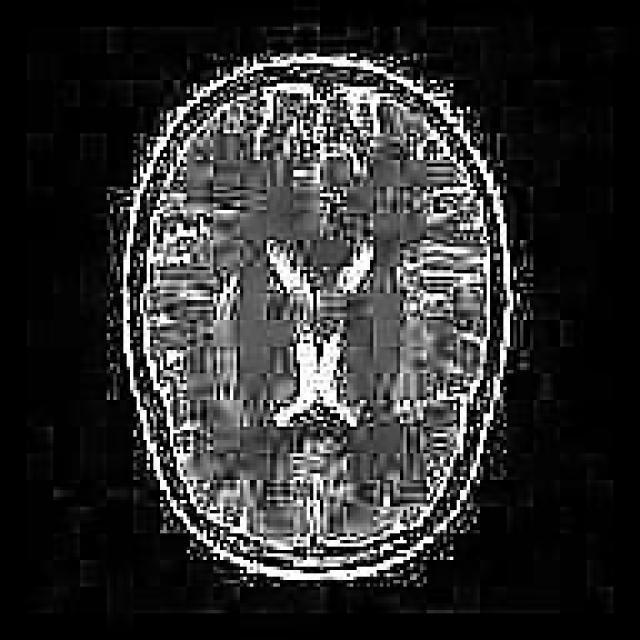notumor: (123, 60, 510, 580)
